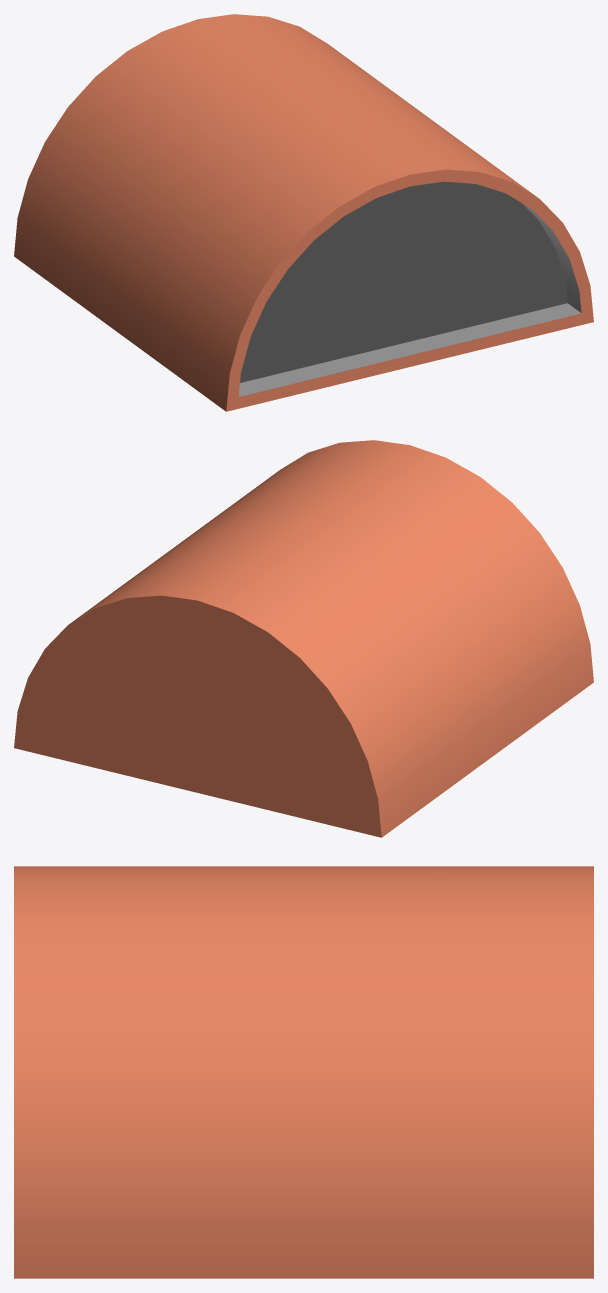
Rendered from tunel_de_barrera 1.fbx.
The picture shows the model from 3 angles, top to bottom: view 1: azimuth 30°, elevation 25°; view 2: azimuth 150°, elevation 25°; view 3: azimuth 270°, elevation 25°; orthographic projection. The views are drawn at different scales.
Parts seen in each view (by area): view 1: Cylinder; view 2: Cylinder; view 3: Cylinder.
Part boxes in pixels (<box>): Cylinder: <box>14,14,593,411</box>; Cylinder: <box>14,440,593,837</box>; Cylinder: <box>14,866,593,1278</box>.
Size of the model in its own units: 200 by 100 by 200.
